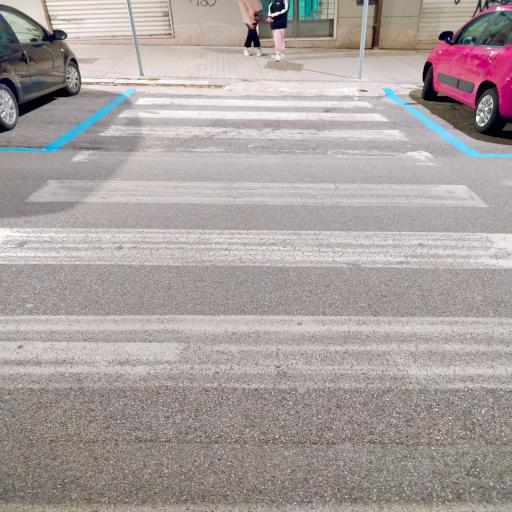crosswalk: (23, 146, 496, 220), (114, 93, 394, 126)
